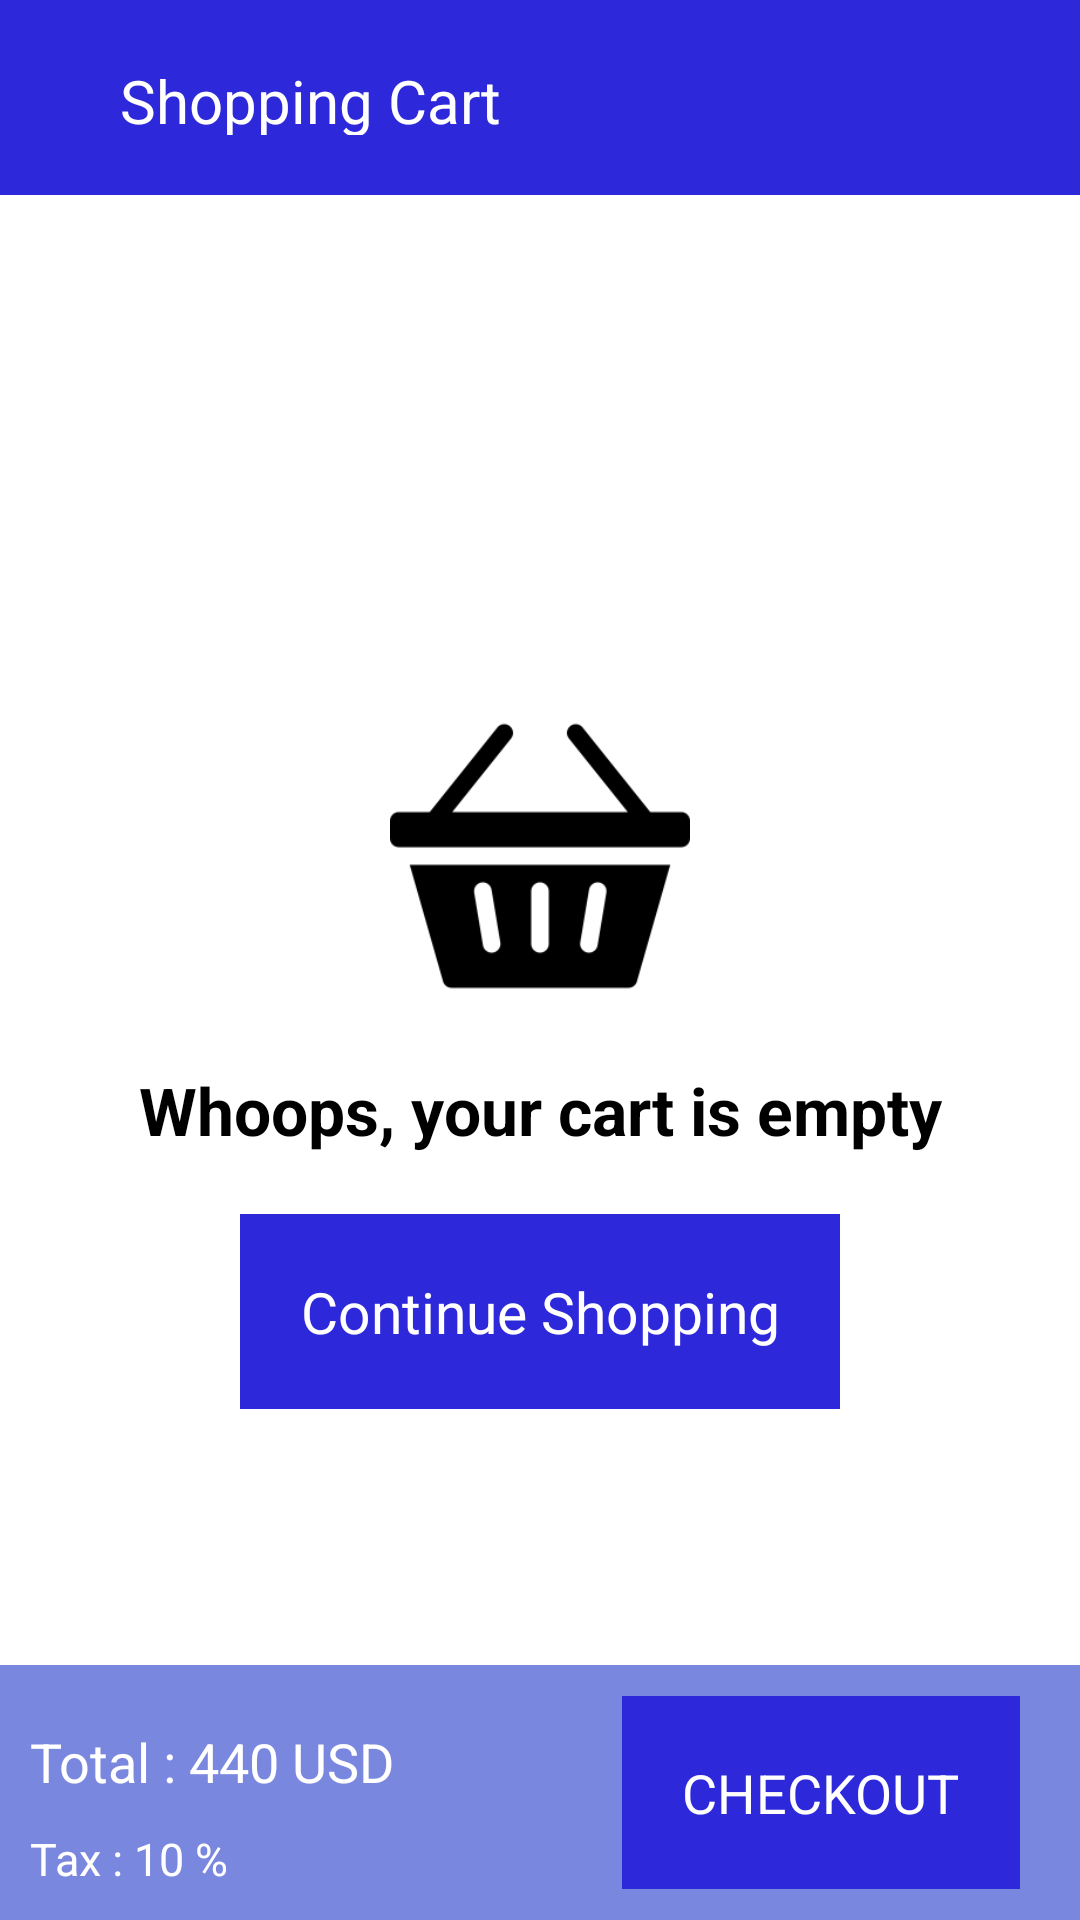

Screen size 1080×1920. Icon name, then its box in pixels as bbox=(x1, y1, x2, y2):
shopping basket: bbox=(390, 723, 690, 989)
